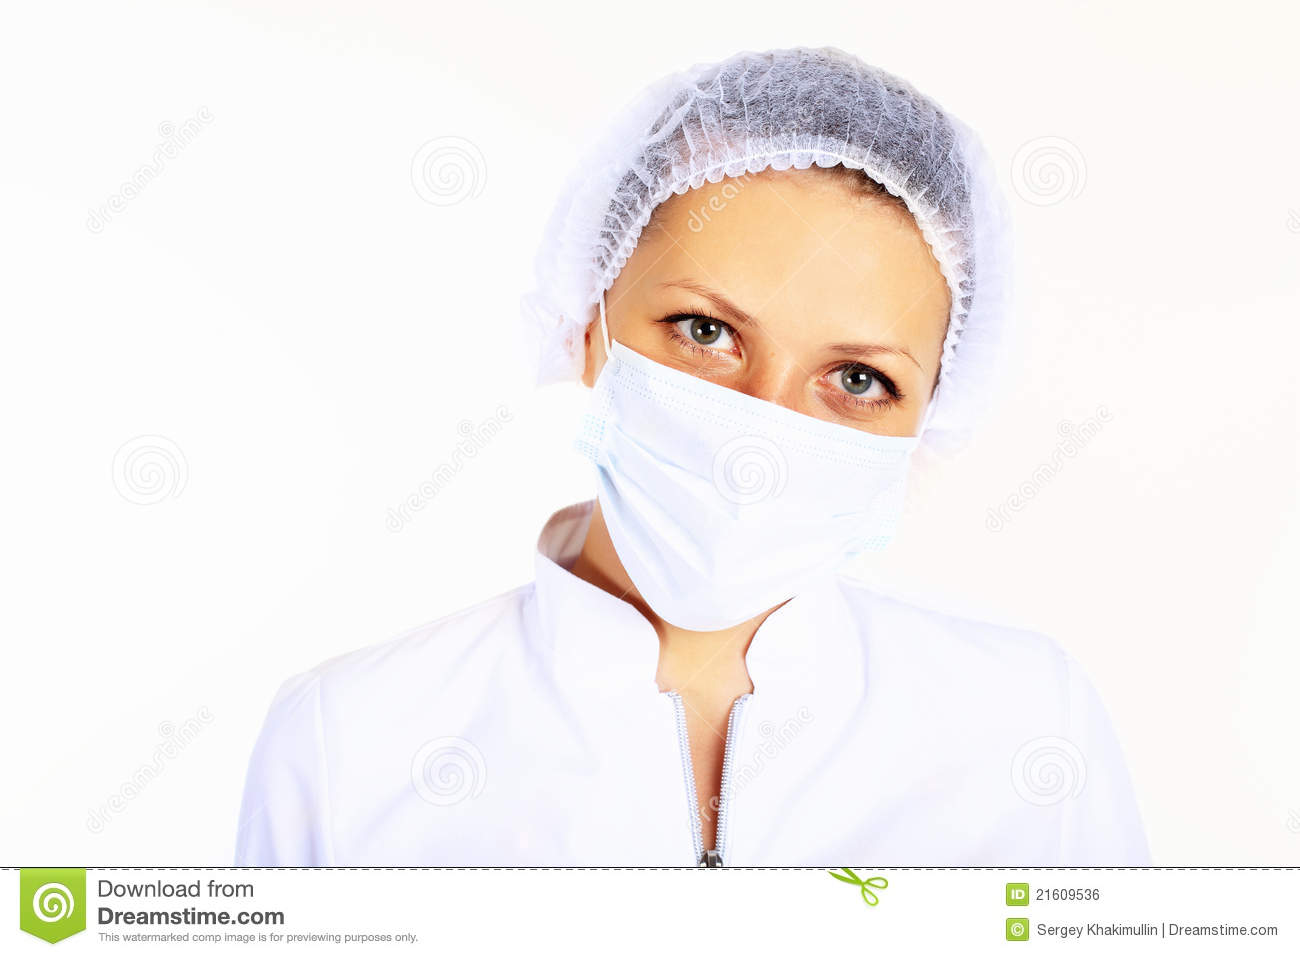mask: (585, 358, 913, 619)
